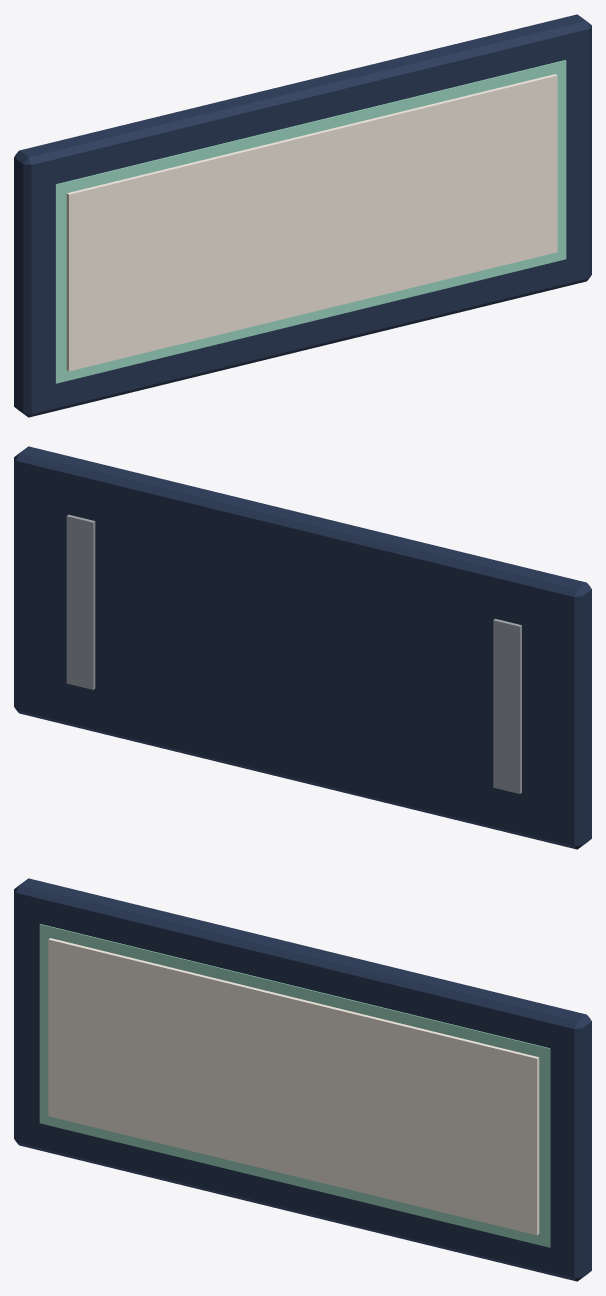
File: CleanACat_Prop_WindowSign.fbx
The picture shows the model from 3 angles, top to bottom: view 1: azimuth 30°, elevation 25°; view 2: azimuth 150°, elevation 25°; view 3: azimuth 330°, elevation 25°; orthographic projection.
Visible parts, largest first — view 1: CleanACat_Prop_WindowSign_Screen, CleanACat_Prop_WindowSign; view 2: CleanACat_Prop_WindowSign; view 3: CleanACat_Prop_WindowSign_Screen, CleanACat_Prop_WindowSign.
Boxes of the visible parts, x1,y1,x2,y2 form: CleanACat_Prop_WindowSign_Screen: (66, 74, 557, 371); CleanACat_Prop_WindowSign: (14, 14, 591, 417); CleanACat_Prop_WindowSign: (14, 446, 591, 849); CleanACat_Prop_WindowSign_Screen: (48, 938, 539, 1235); CleanACat_Prop_WindowSign: (14, 878, 591, 1281).
Bounding box in the file's own units: 6.4 × 2.8 × 0.39.
1 material, 1 textured.
